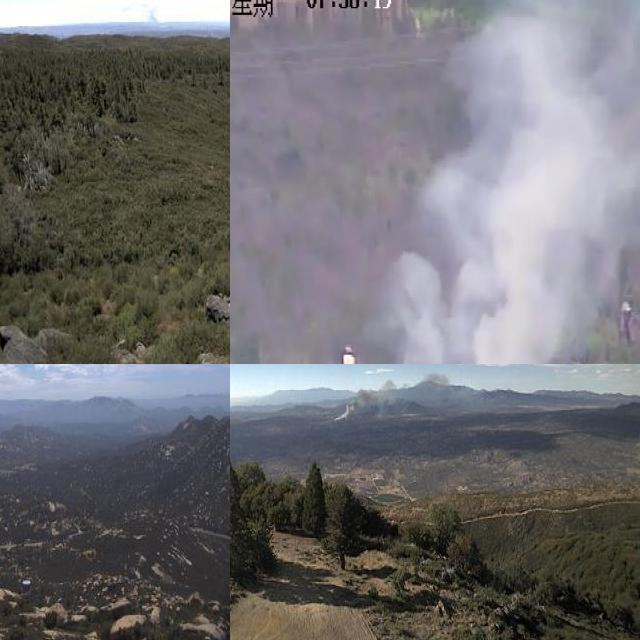smoke: (363, 0, 640, 364), (333, 365, 455, 427), (142, 7, 162, 26)
